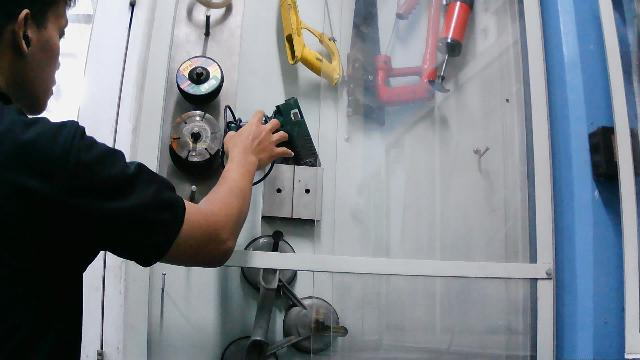gun_lem: (217, 91, 328, 186)
